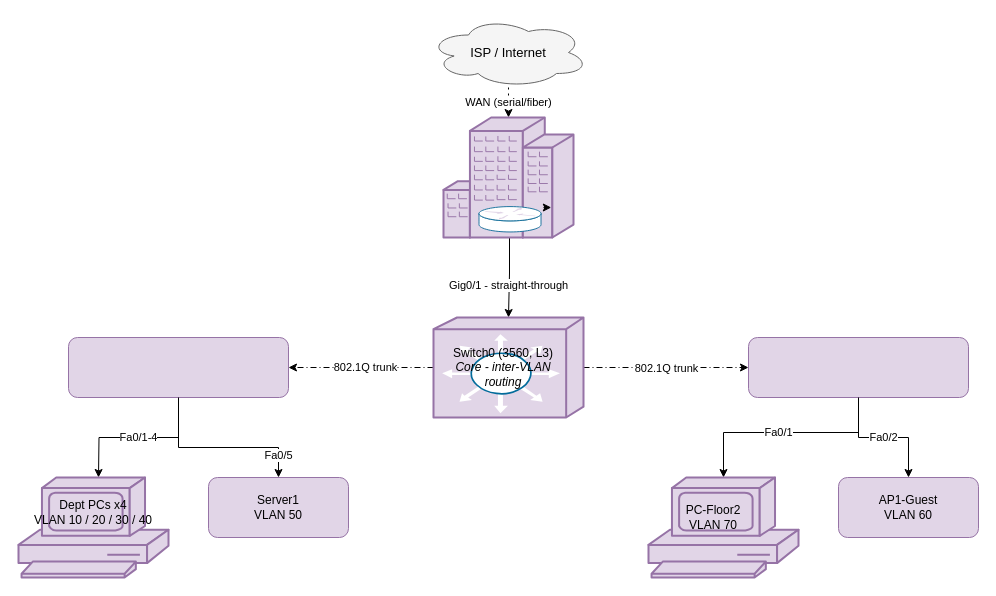
The diagram is 996 pixels wide and 596 high, and some of its shapes have lost their labels. Each missing label, with the box of its shape:
Router0 (2811) Edge router: (442, 116, 574, 238)
Switch1 (2960) Ground floor: (68, 336, 288, 398)
Switch2 (2960) First floor (CR2): (748, 336, 968, 398)
